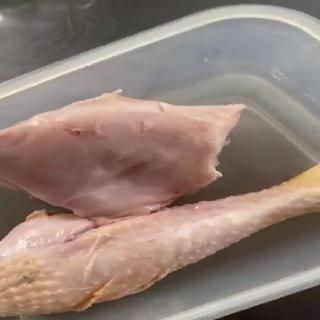Ayam: (1, 163, 320, 317), (1, 89, 247, 228)
